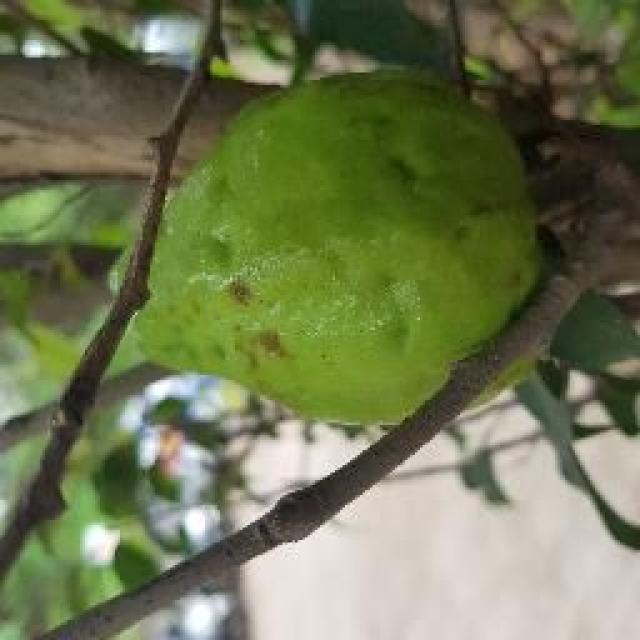Good_Guava: (120, 70, 550, 428)
